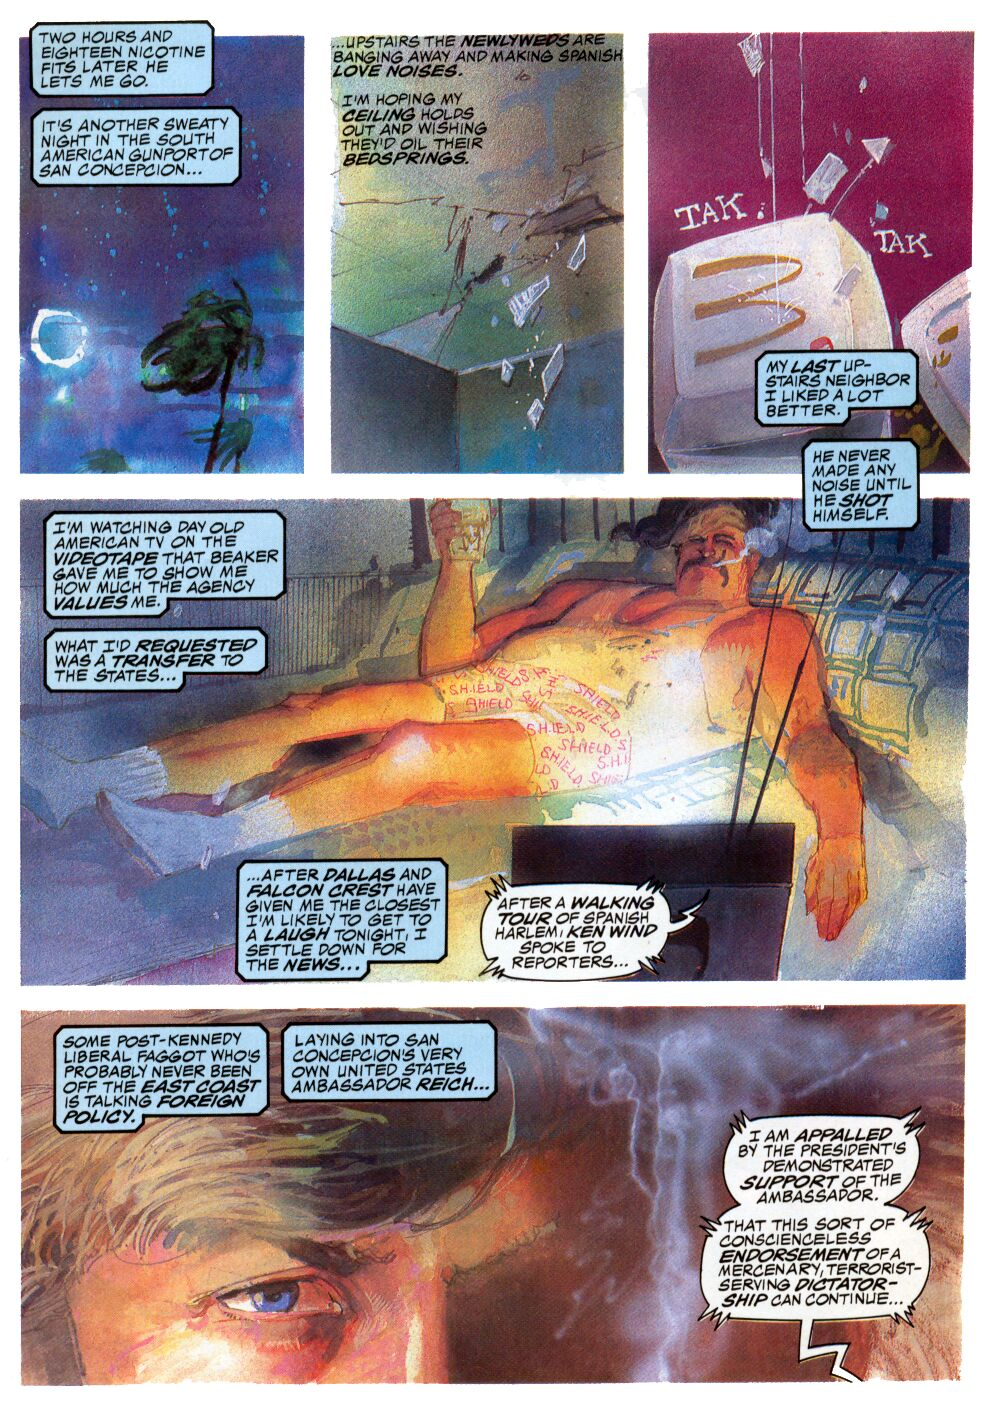Baloon: (699, 1209, 954, 1376), (45, 508, 292, 615), (238, 861, 445, 980), (480, 878, 706, 980), (54, 1028, 265, 1133), (334, 20, 627, 89), (723, 1109, 932, 1204), (34, 109, 245, 185), (284, 1026, 497, 1100), (38, 630, 271, 691), (27, 17, 212, 91), (758, 352, 930, 428), (336, 91, 497, 170), (801, 441, 920, 533)
Vignetta: (17, 500, 967, 983), (23, 1002, 967, 1385), (649, 33, 975, 474), (327, 33, 623, 474), (19, 26, 304, 474)
